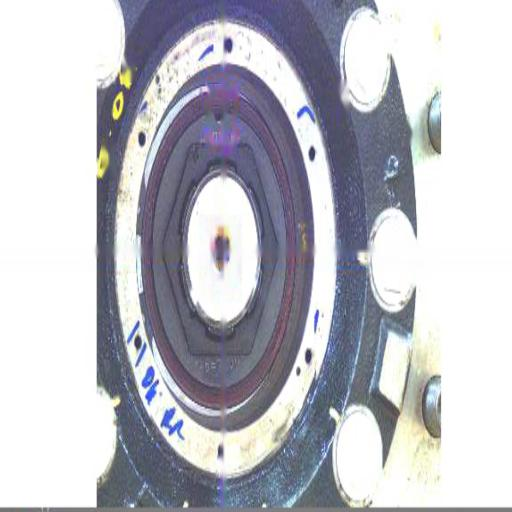center: (211, 233, 230, 268)
notch: (209, 104, 228, 133)
